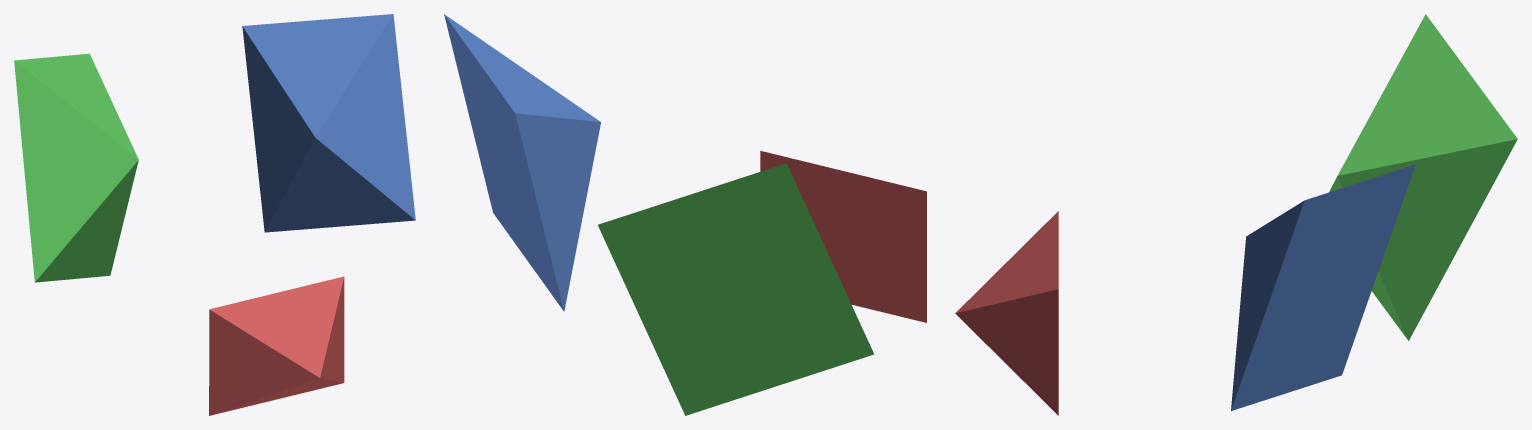
Rendered from scene_filtered.glb.
3 views of the same model, side by side, from view 1: azimuth 30°, elevation 25°; view 2: azimuth 150°, elevation 25°; view 3: azimuth 270°, elevation 25° (orthographic). The views are drawn at different scales.
Parts seen in each view (by area): view 1: camera_hand_right, camera_hand_left, camera_head; view 2: camera_hand_left, camera_hand_right, camera_head; view 3: camera_hand_left, camera_hand_right, camera_head.
Part boxes in pixels (x1=…): camera_hand_right: x1=242, y1=14, x2=415, y2=232; camera_hand_left: x1=14, y1=53, x2=138, y2=282; camera_head: x1=209, y1=276, x2=344, y2=415; camera_hand_left: x1=598, y1=163, x2=874, y2=415; camera_hand_right: x1=444, y1=14, x2=600, y2=311; camera_head: x1=760, y1=151, x2=926, y2=322; camera_hand_left: x1=1329, y1=14, x2=1517, y2=340; camera_hand_right: x1=1231, y1=164, x2=1415, y2=410; camera_head: x1=955, y1=211, x2=1058, y2=415.
Bounding box in the file's own units: 0.7036 × 0.4866 × 0.8155.
